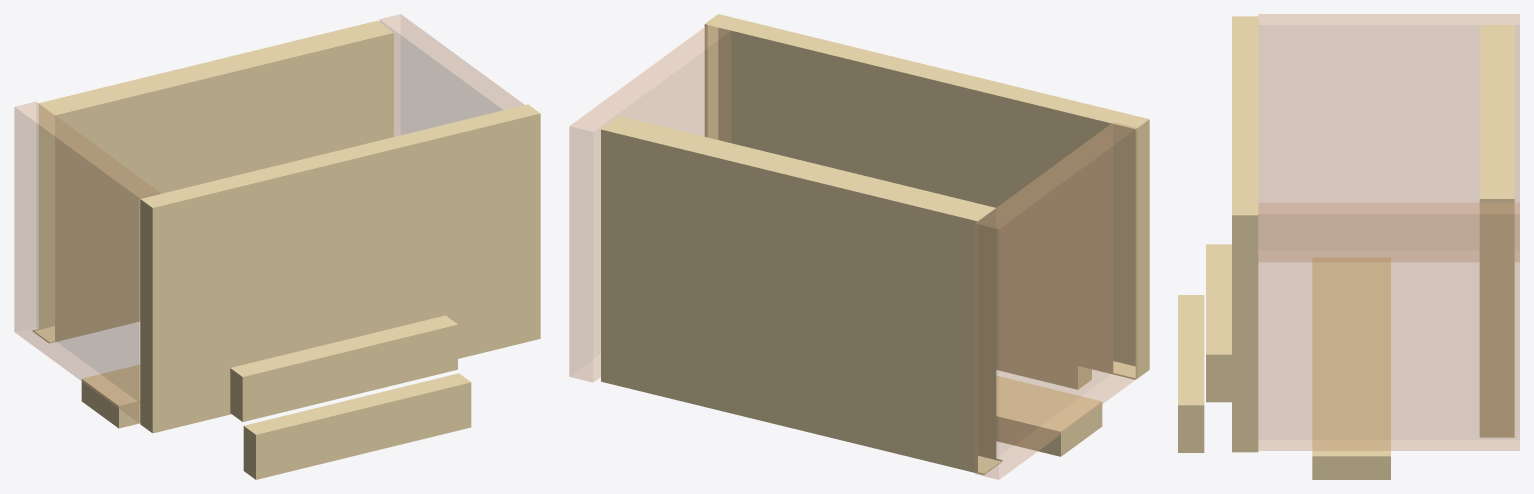
File: tinker.obj
The picture shows the model from 3 angles, left to right: view 1: azimuth 30°, elevation 25°; view 2: azimuth 150°, elevation 25°; view 3: azimuth 270°, elevation 25°; orthographic projection. The views are drawn at different scales.
Parts seen in each view (by area): view 1: group_0_16311991, group_0_-1023687270; view 2: group_0_16311991, group_0_-1023687270; view 3: group_0_-1023687270, group_0_16311991.
Boxes of the visible parts, box(x1,y1,x2,y2) form: group_0_16311991: box(32, 20, 540, 479); group_0_-1023687270: box(14, 14, 524, 422); group_0_16311991: box(601, 14, 1149, 474); group_0_-1023687270: box(569, 25, 1136, 479); group_0_-1023687270: box(1258, 14, 1519, 450); group_0_16311991: box(1178, 16, 1514, 479).
Size of the model in its own units: 274 by 182 by 196.
